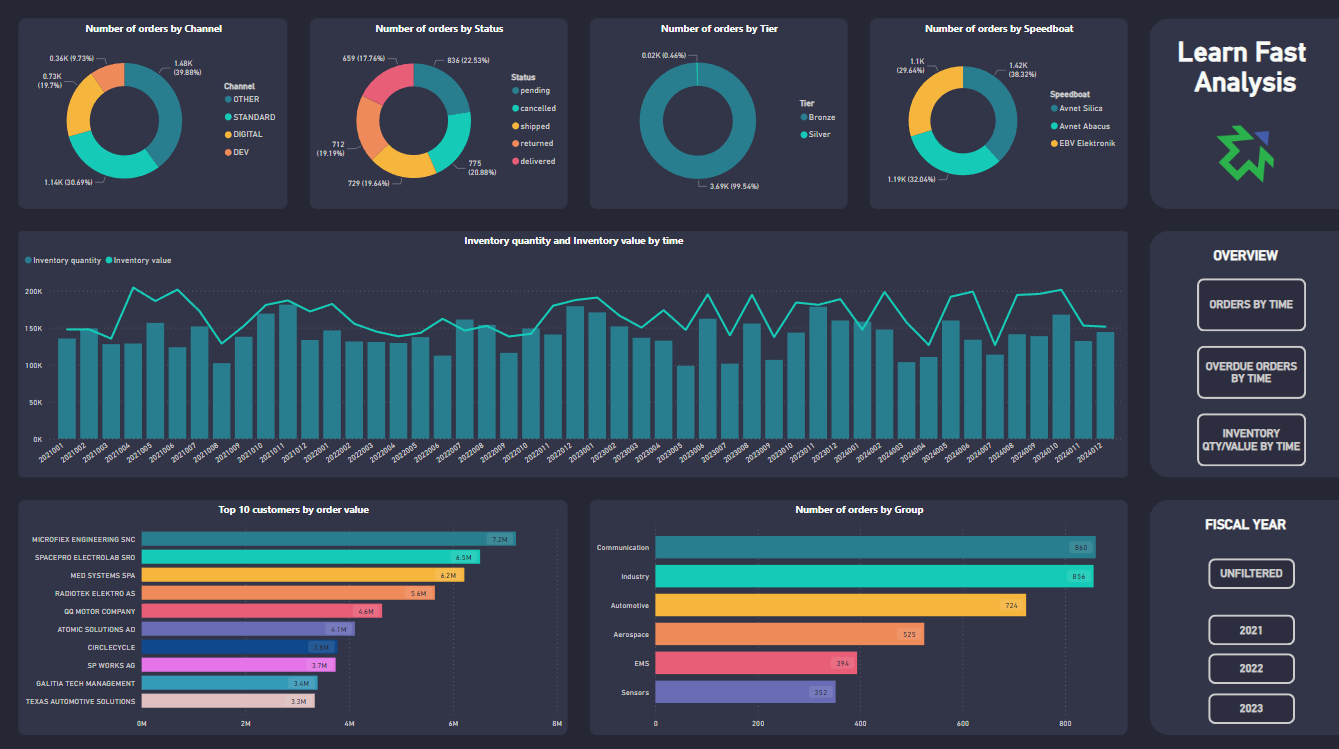

Layout of this report page (visuals, bound fields, positions):
{"tool":"powerbi","page":{"name":"Page 1","canvas":[1920,1080],"ordinal":0},"visuals":[{"type":"donutChart","fields":{"Category":["Speedboat.boat"],"Y":["CountNonNull(Orders.Order No.)"]},"box":[1248,32,368,272],"z":0},{"type":"donutChart","fields":{"Category":["Status.status"],"Y":["CountNonNull(Orders.Order No.)"]},"box":[448,32,368,272],"z":1000},{"type":"donutChart","fields":{"Category":["Channel.disti_channel"],"Y":["CountNonNull(Orders.Order No.)"]},"box":[32,32,384,272],"z":2000},{"type":"barChart","title":"Number of orders by Group","fields":{"Category":["Group.grptxt"],"Y":["CountNonNull(Orders.Order No.)"],"Series":["Group.grptxt"]},"box":[848,720,768,336],"z":3000},{"type":"donutChart","fields":{"Category":["Orders.CustomerClassification"],"Y":["CountNonNull(Orders.Order No.)"]},"box":[848,32,368,272],"z":4000},{"type":"barChart","title":"Top 10 customers by order value","fields":{"Category":["Customers.customer"],"Y":["Sum(Orders.booked)"],"Series":["Customers.customer"]},"box":[32,720,784,336],"z":5000},{"type":"shape","box":[1648,32,272,272],"z":6000},{"type":"shape","box":[1648,720,272,336],"z":7000},{"type":"shape","box":[1648,336,272,352],"z":8000},{"type":"textbox","box":[1648,48,272,160],"z":9000},{"type":"lineChart","title":"Number of orders by time","fields":{"Y":["CountNonNull(Orders.Order No.)"],"Category":["Orders.FY Hierarchy.FY","Orders.FY Hierarchy.QrtOnly","Orders.FY Hierarchy.PdOnly"]},"box":[32,336,1584,352],"z":10000},{"type":"image","box":[1736,176,96,96],"z":13000},{"type":"textbox","box":[1648,736,272,80],"z":14000},{"type":"actionButton","box":[1728,800,128,48],"z":15000},{"type":"actionButton","box":[1728,880,128,48],"z":16000},{"type":"actionButton","box":[1728,936,128,48],"z":17000},{"type":"actionButton","box":[1728,992,128,48],"z":18000},{"type":"textbox","box":[1648,352,272,48],"z":18001},{"type":"actionButton","box":[1712,400,160,80],"z":18002},{"type":"actionButton","box":[1712,496,160,80],"z":18003},{"type":"actionButton","box":[1712,592,160,80],"z":18004}]}

Visuals, with their boxes in screenshot pixels (x1, y1, x2, y2), scaled from the page's 1920x1080 canvas onto the 1339x749 screenshot:
donutChart - Speedboat.boat x CountNonNull(Orders.Order No.): <box>870,22,1127,211</box>
donutChart - Status.status x CountNonNull(Orders.Order No.): <box>312,22,569,211</box>
donutChart - Channel.disti_channel x CountNonNull(Orders.Order No.): <box>22,22,290,211</box>
"Number of orders by Group" barChart: <box>591,499,1127,732</box>
donutChart - Orders.CustomerClassification x CountNonNull(Orders.Order No.): <box>591,22,848,211</box>
"Top 10 customers by order value" barChart: <box>22,499,569,732</box>
shape: <box>1149,22,1338,211</box>
shape: <box>1149,499,1338,732</box>
shape: <box>1149,233,1338,477</box>
textbox: <box>1149,33,1338,144</box>
"Number of orders by time" lineChart: <box>22,233,1127,477</box>
image: <box>1211,122,1278,189</box>
textbox: <box>1149,510,1338,566</box>
actionButton: <box>1205,555,1294,588</box>
actionButton: <box>1205,610,1294,644</box>
actionButton: <box>1205,649,1294,682</box>
actionButton: <box>1205,688,1294,721</box>
textbox: <box>1149,244,1338,277</box>
actionButton: <box>1194,277,1306,333</box>
actionButton: <box>1194,344,1306,399</box>
actionButton: <box>1194,411,1306,466</box>
